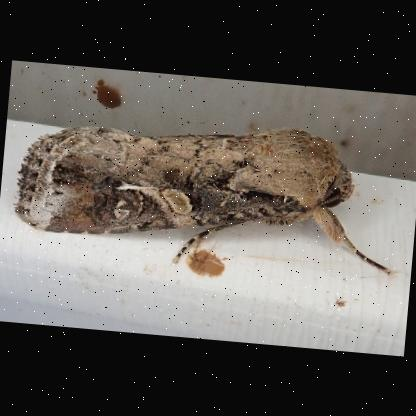Fall Armyworm Moth: (6, 100, 404, 283)
